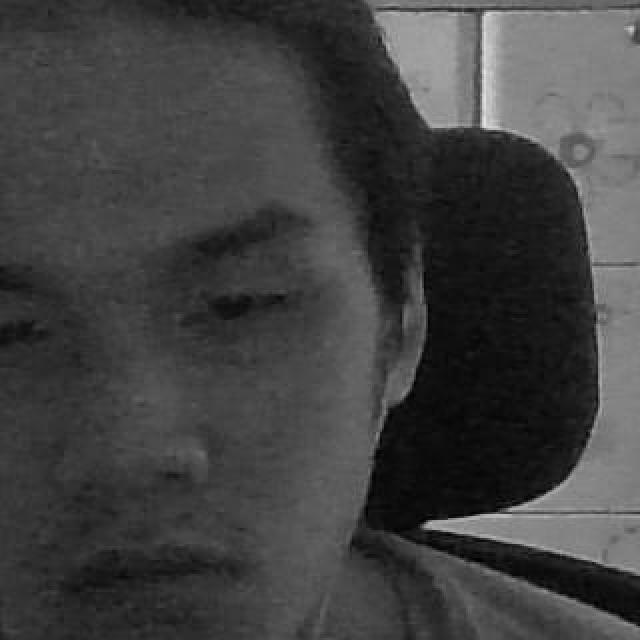Focused: (0, 52, 406, 640)
